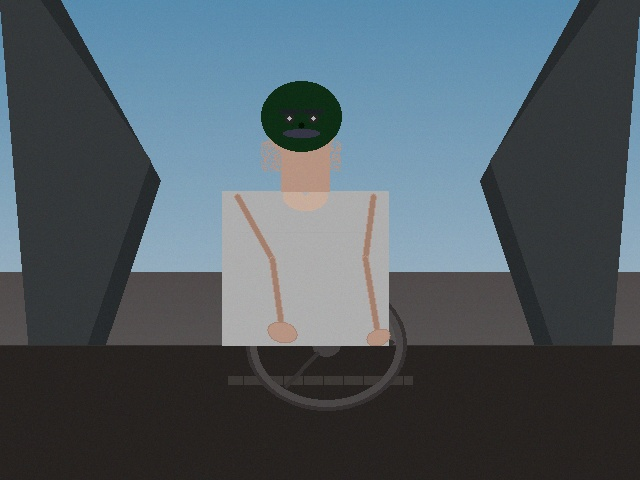normal_driving: (136, 192, 326, 344)
